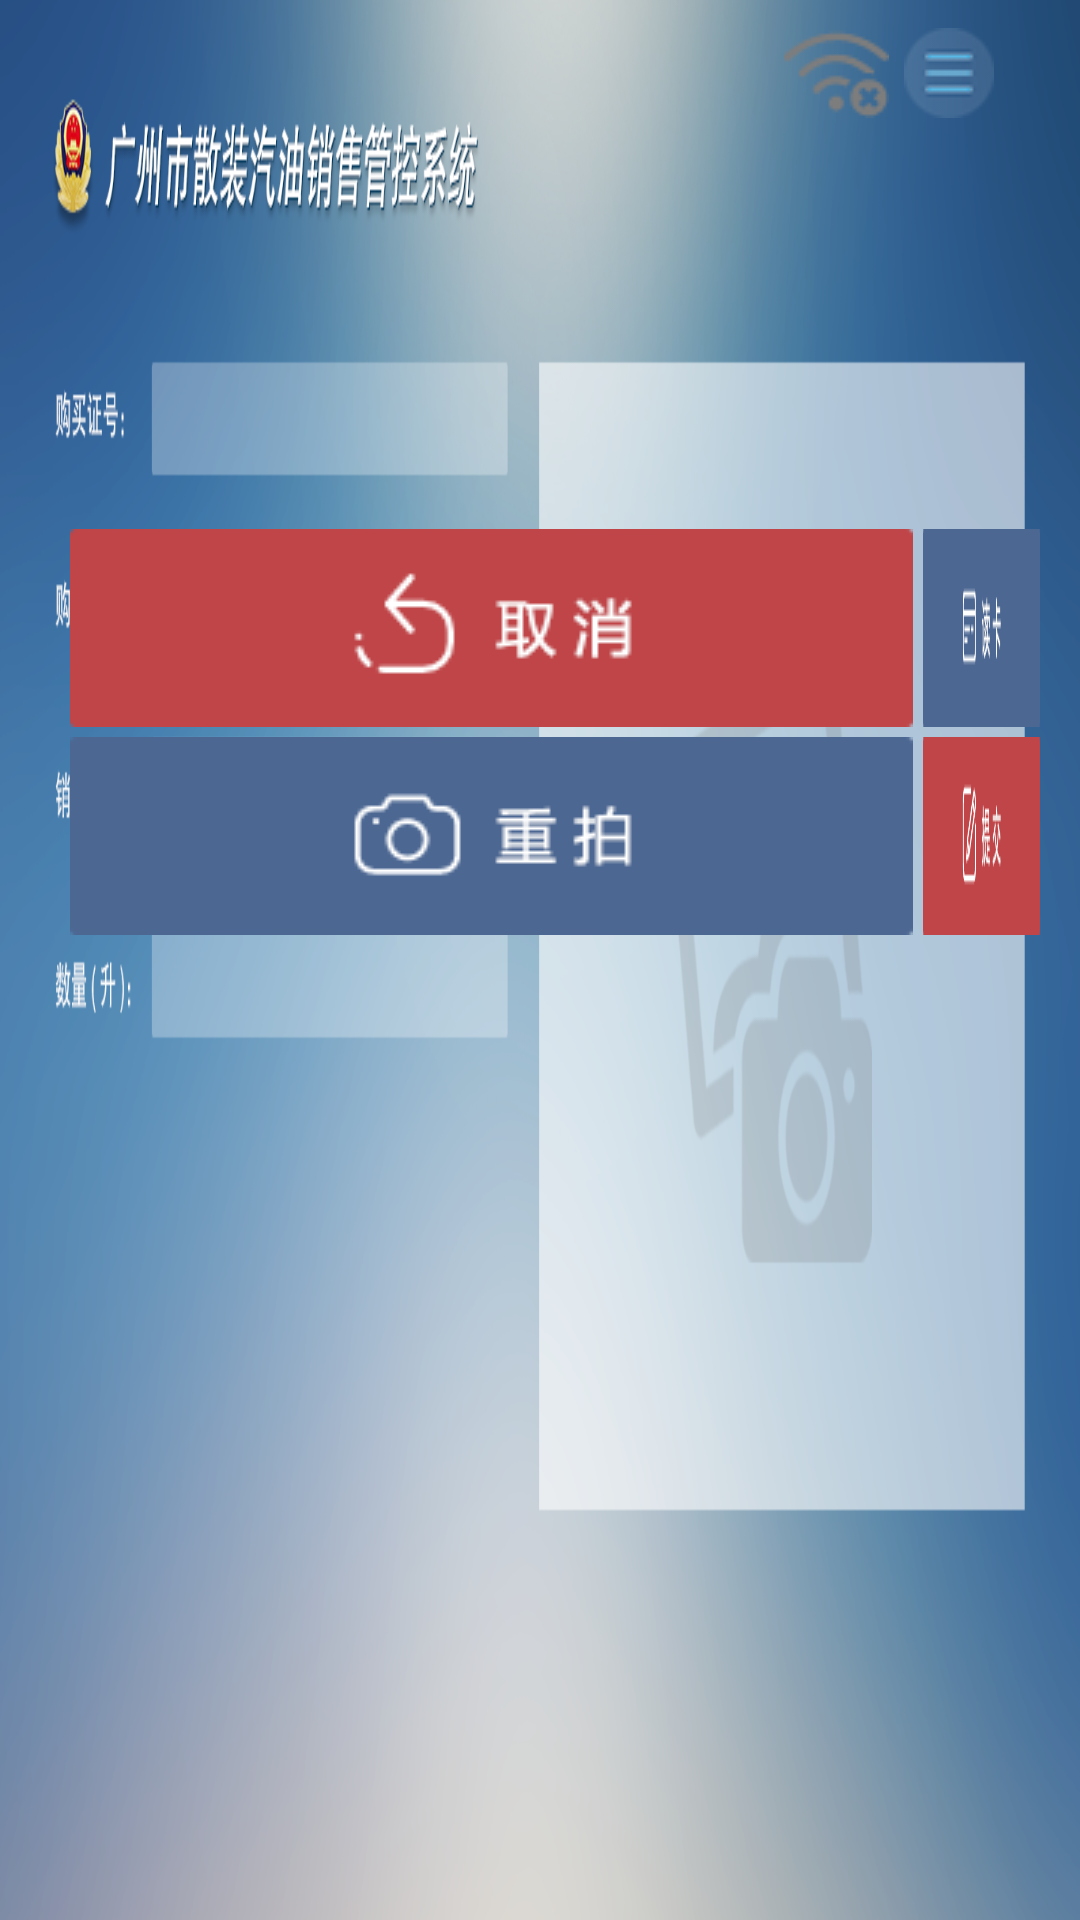

Named icons in this screenshot (1080w x 1920h) and their centers, (x,y):
menubotton: (939,72)
no network: (836,73)
